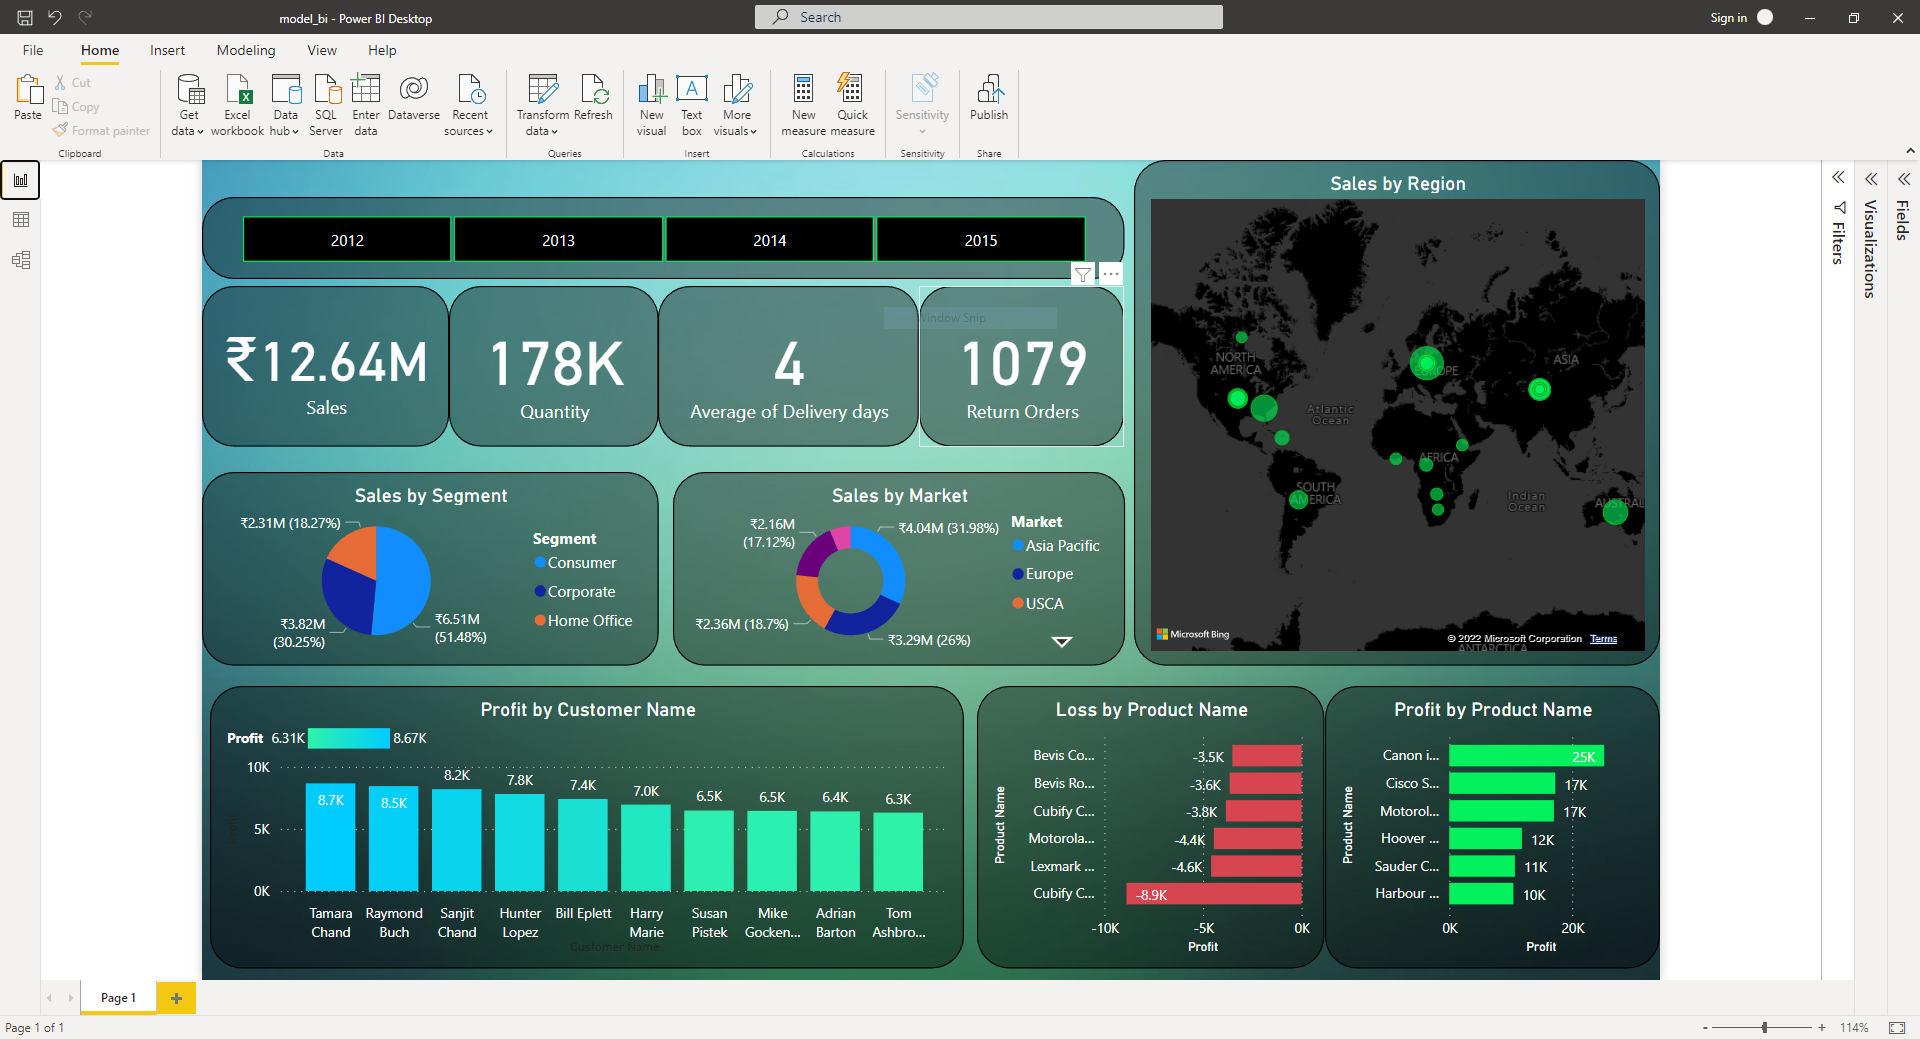

This screenshot's page, from the dashboard's own definition file:
{"tool":"powerbi","page":{"name":"Page 1","canvas":[1280,720],"ordinal":0},"visuals":[{"type":"card","fields":{"Values":["Orders.Sales"]},"box":[0,110.9,216.9,141],"z":0},{"type":"card","fields":{"Values":["Orders.Quantity"]},"box":[216.9,110.9,183.8,141],"z":1000},{"type":"card","fields":{"Values":["Orders.Delivery days"]},"box":[400.7,110.9,228.6,141],"z":2000},{"type":"slicer","fields":{"Values":["Orders.Year"]},"box":[0,32.5,809.9,72.3],"z":3000},{"type":"card","fields":{"Values":["Returns.Return Orders"]},"box":[629.3,110.9,179.9,141],"z":4000},{"type":"map","fields":{"Category":["Orders.Region"],"Size":["Orders.Sales"]},"box":[818,0,462,444.5],"z":5000},{"type":"barChart","fields":{"Category":["Orders.Product Name"],"Y":["Orders.Profit"]},"box":[986.3,462,293.7,248],"z":6000},{"type":"barChart","title":"Loss by Product Name","fields":{"Category":["Orders.Product Name"],"Y":["Orders.Profit"]},"box":[680.9,462,305.4,248],"z":7000},{"type":"pieChart","fields":{"Category":["Orders.Segment"],"Y":["Orders.Sales"]},"box":[0,274.3,400.7,170.2],"z":8000},{"type":"donutChart","fields":{"Category":["Orders.Market"],"Y":["Orders.Sales"]},"box":[413.4,274.3,396.8,170.2],"z":9000},{"type":"columnChart","fields":{"Y":["Orders.Profit"],"Category":["Orders.Customer Name"]},"box":[6.8,462,662.4,248],"z":10000}]}

Visuals, with their boxes on the page's 1280x720 design canvas (x1, y1, x2, y2). These are canvas units, not pixel positions in the 1920x1039 screenshot, which may show the page scaled, cropped or inside an application window:
card - Orders.Sales: {"x1": 0, "y1": 111, "x2": 217, "y2": 252}
card - Orders.Quantity: {"x1": 217, "y1": 111, "x2": 401, "y2": 252}
card - Orders.Delivery days: {"x1": 401, "y1": 111, "x2": 629, "y2": 252}
slicer - Orders.Year: {"x1": 0, "y1": 32, "x2": 810, "y2": 105}
card - Returns.Return Orders: {"x1": 629, "y1": 111, "x2": 809, "y2": 252}
map - Orders.Region x Orders.Sales: {"x1": 818, "y1": 0, "x2": 1280, "y2": 444}
barChart - Orders.Product Name x Orders.Profit: {"x1": 986, "y1": 462, "x2": 1280, "y2": 710}
"Loss by Product Name" barChart: {"x1": 681, "y1": 462, "x2": 986, "y2": 710}
pieChart - Orders.Segment x Orders.Sales: {"x1": 0, "y1": 274, "x2": 401, "y2": 444}
donutChart - Orders.Market x Orders.Sales: {"x1": 413, "y1": 274, "x2": 810, "y2": 444}
columnChart - Orders.Profit x Orders.Customer Name: {"x1": 7, "y1": 462, "x2": 669, "y2": 710}
